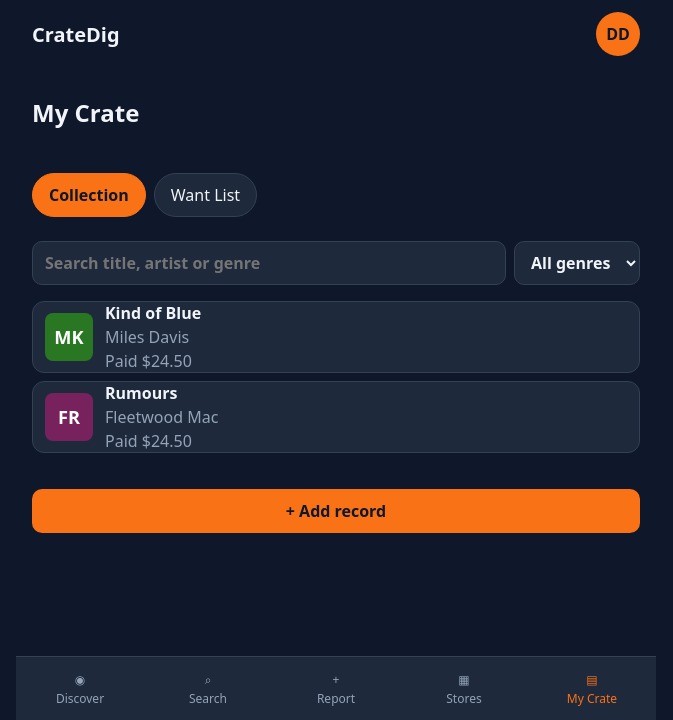
Test: /crate › remembers the Want List tab and shows wanted attributes
This screenshot has width=673, height=720.
Expected: the text "Kind of Blue" is shown, [105,302,201,324]
Click the radio button labelled "Want List". click: x=205, y=195
box: [154,173,257,217]
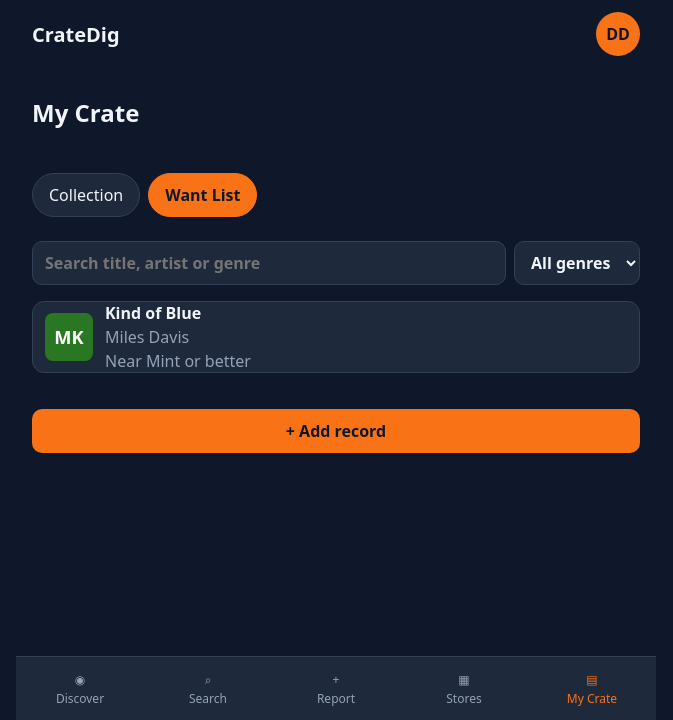
Result: the text "Near Mint or better" is shown at [105,350,251,372]
